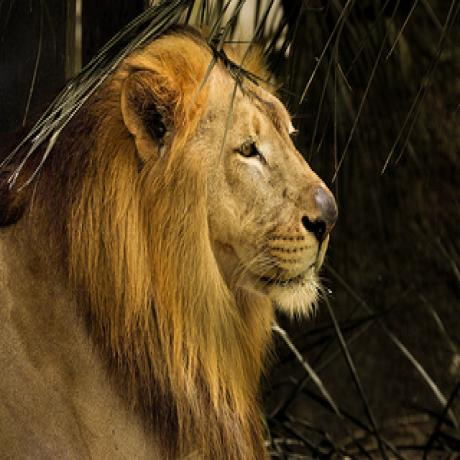Lion: (0, 21, 344, 460)
